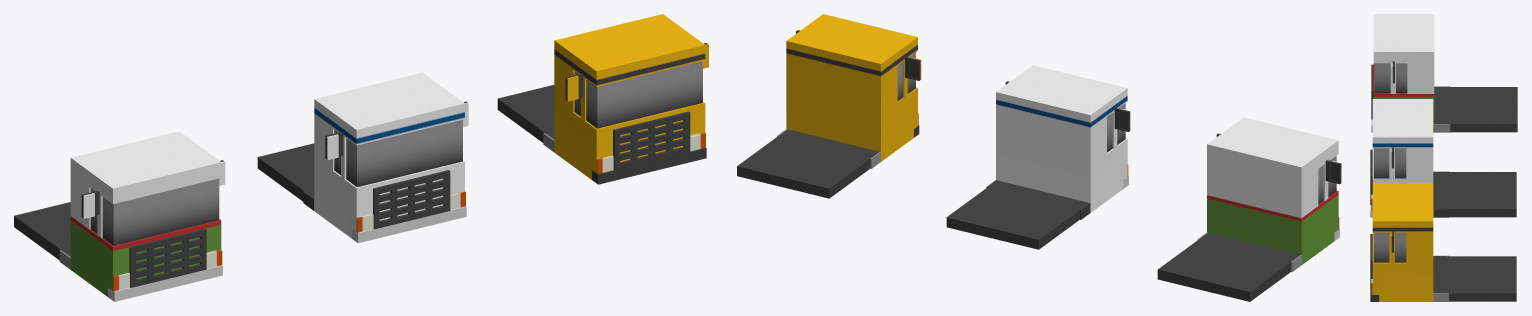
Rendered from Vehicles_06.fbx.
3 views of the same model, side by side, from view 1: azimuth 30°, elevation 25°; view 2: azimuth 150°, elevation 25°; view 3: azimuth 270°, elevation 25° (orthographic). The views are drawn at different scales.
Parts seen in each view (by area): view 1: Truck_01_part, Truck_03_part, Truck_02_part; view 2: Truck_03_part, Truck_02_part, Truck_01_part; view 3: Truck_03_part, Truck_01_part, Truck_02_part.
Part boxes in pixels (bbox=[...]): Truck_01_part: bbox=[14, 131, 225, 301]; Truck_03_part: bbox=[497, 14, 708, 184]; Truck_02_part: bbox=[257, 72, 468, 243]; Truck_03_part: bbox=[737, 14, 921, 198]; Truck_02_part: bbox=[946, 65, 1130, 249]; Truck_01_part: bbox=[1157, 117, 1341, 301]; Truck_03_part: bbox=[1370, 183, 1516, 301]; Truck_01_part: bbox=[1371, 14, 1517, 132]; Truck_02_part: bbox=[1370, 99, 1516, 217].
Size of the model in its own units: 460 by 79 by 131.
